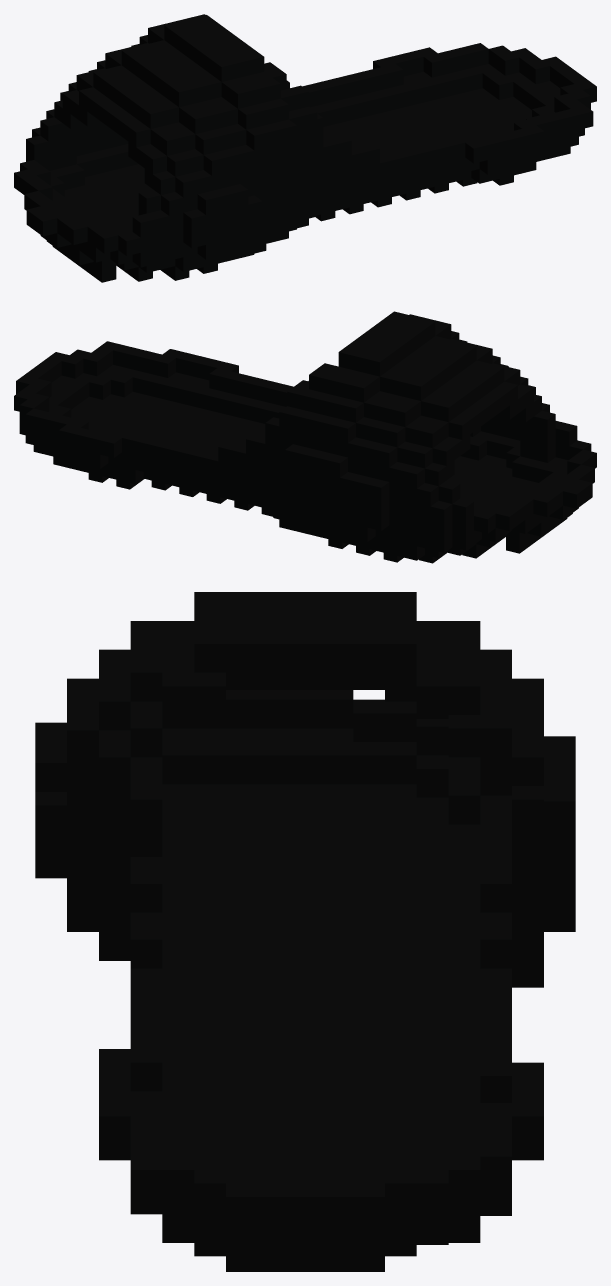
Rendered from Onyx.fbx.
The picture shows the model from 3 angles, top to bottom: view 1: azimuth 30°, elevation 25°; view 2: azimuth 150°, elevation 25°; view 3: azimuth 270°, elevation 25°; orthographic projection. The views are drawn at different scales.
Visible parts, largest first — view 1: Untitled; view 2: Untitled; view 3: Untitled.
Boxes of the visible parts, x1=… form: Untitled: x1=14, y1=14, x2=596, y2=282; Untitled: x1=14, y1=311, x2=596, y2=563; Untitled: x1=35, y1=592, x2=575, y2=1271.
Bounding box in the file's own units: 390 × 120 × 170.
